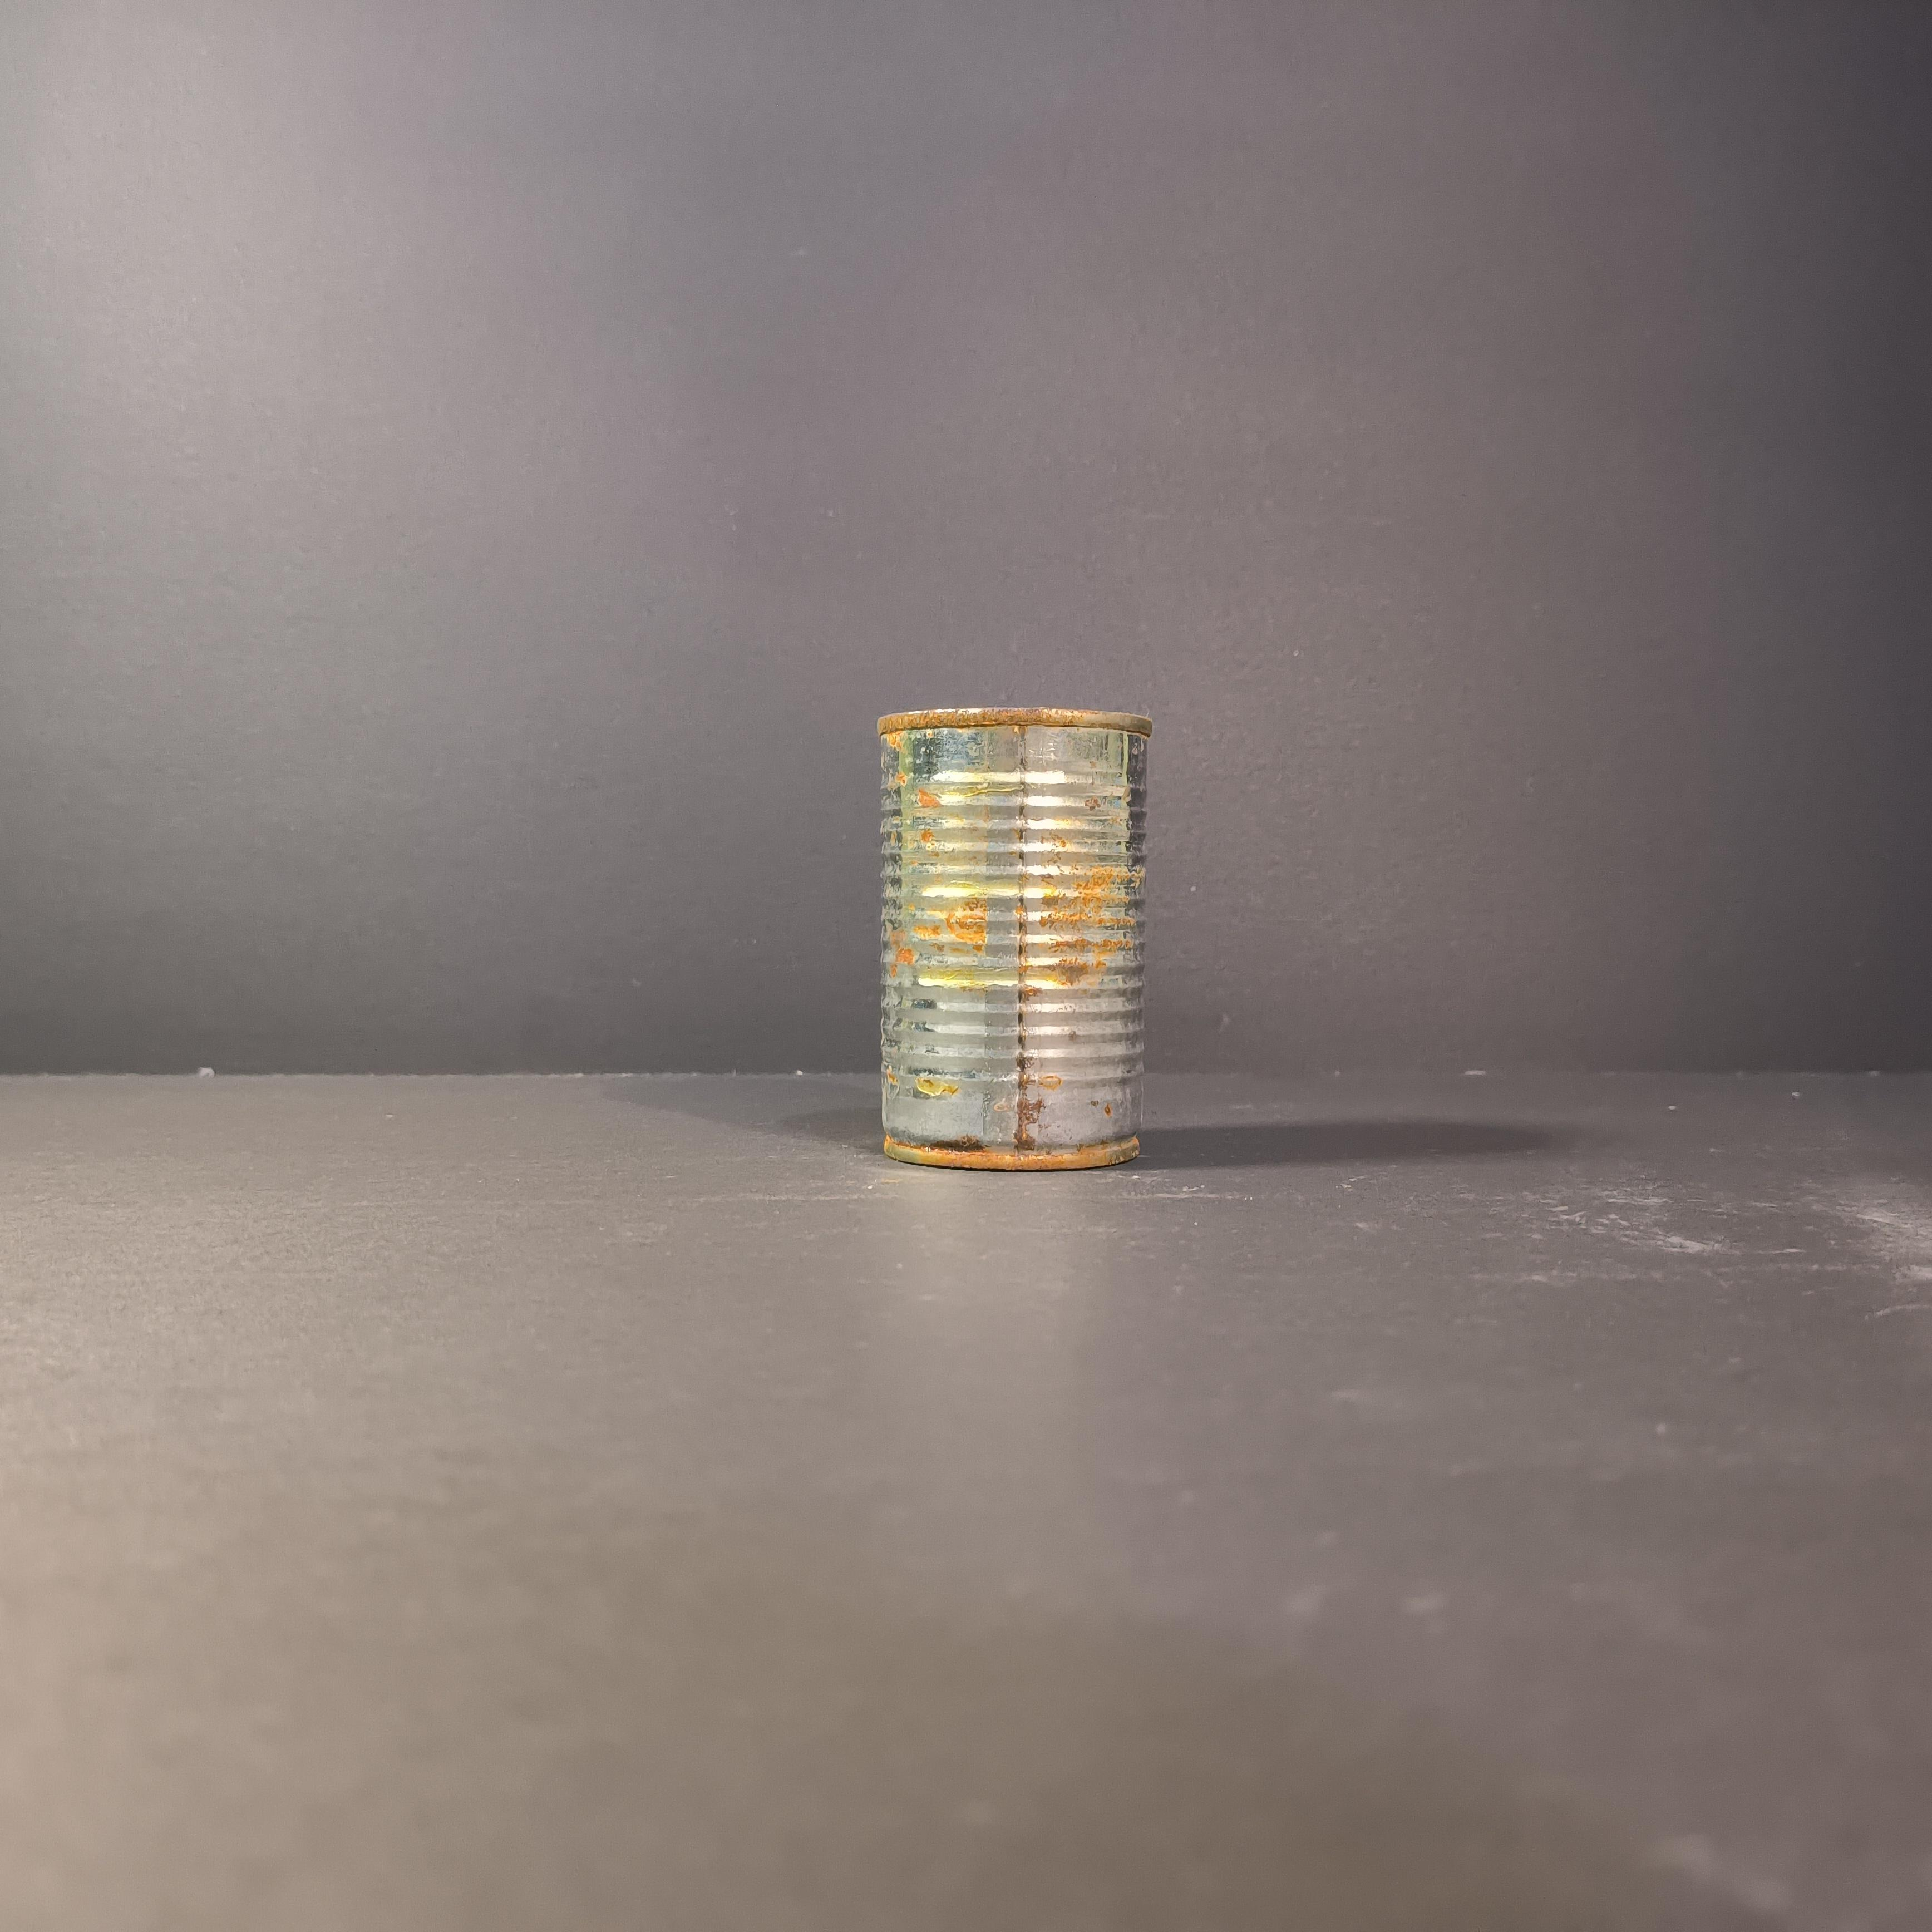Rusted: (854, 682, 1155, 1182)
